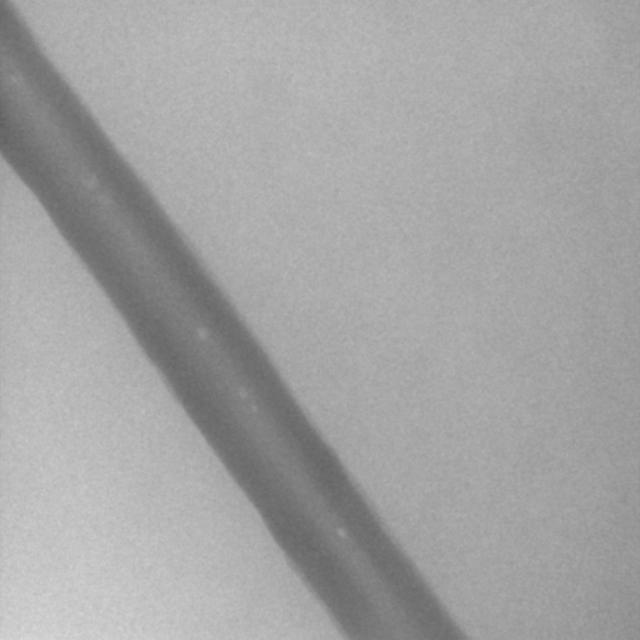air hole: (195, 325, 208, 341), (336, 525, 347, 541)
